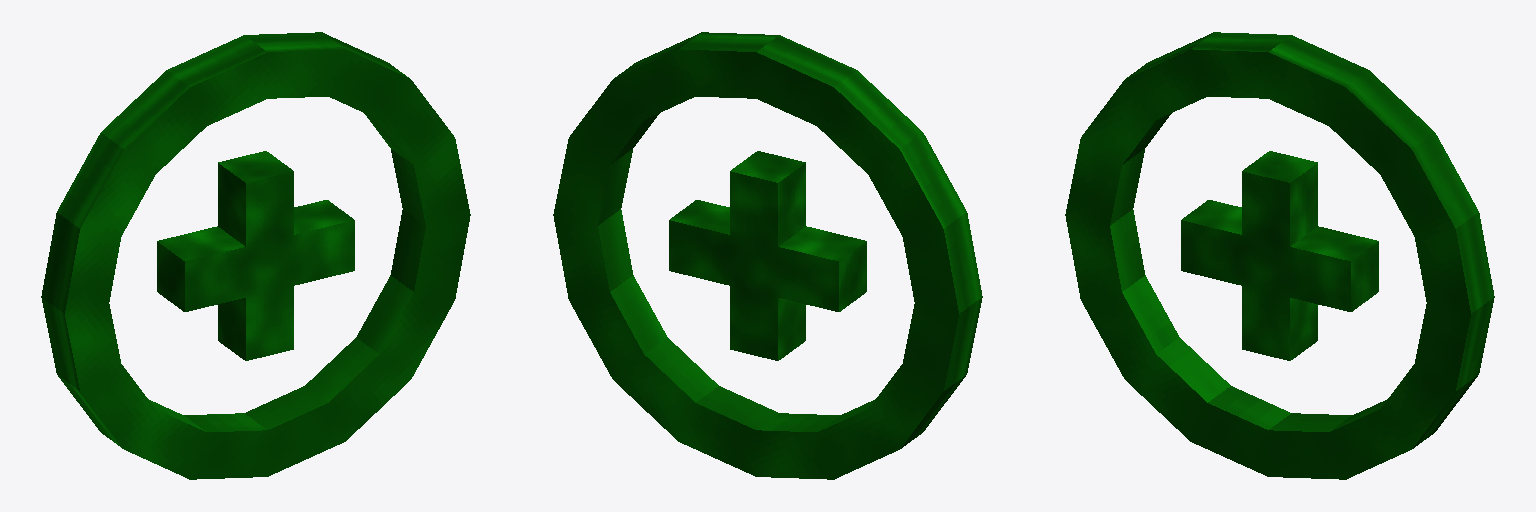
3 renders of one model, left to right at view 1: azimuth 30°, elevation 25°; view 2: azimuth 150°, elevation 25°; view 3: azimuth 330°, elevation 25°, orthographic.
Parts seen in each view (by area): view 1: PowerUp; view 2: PowerUp; view 3: PowerUp.
Boxes of the visible parts, box(x1,y1,x2,y2) form: PowerUp: box(41, 32, 470, 479); PowerUp: box(553, 32, 982, 479); PowerUp: box(1065, 32, 1494, 479).
Bounding box in the file's own units: 1.5 × 1.5 × 0.1797.
Materials: 1 (1 with a texture image).